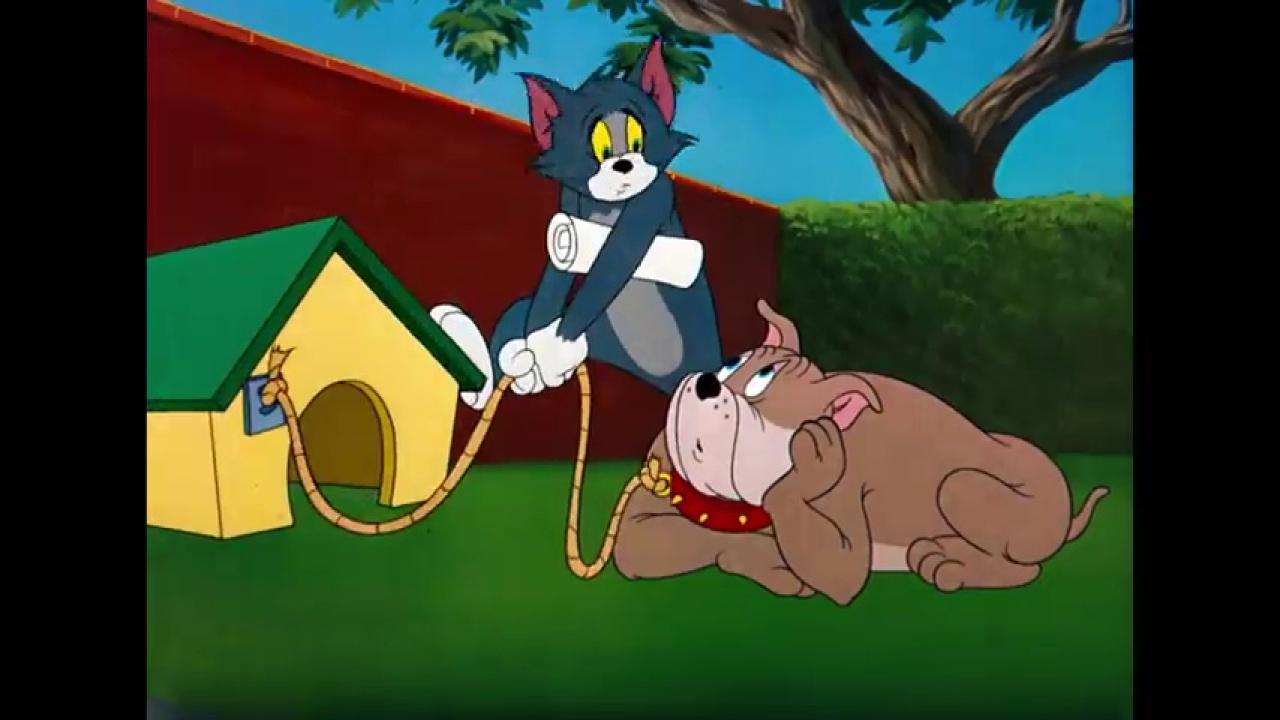Tom: (426, 30, 726, 413)
